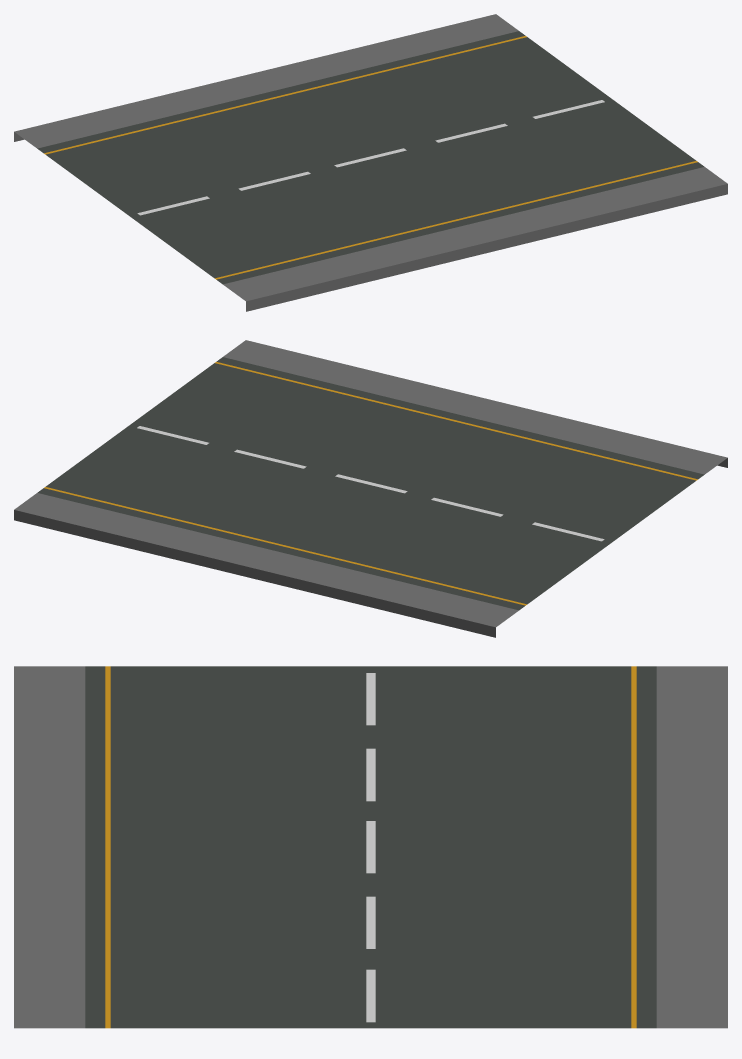
File: SM_Road_1.FBX
The picture shows the model from 3 angles, top to bottom: view 1: azimuth 30°, elevation 25°; view 2: azimuth 150°, elevation 25°; view 3: azimuth 270°, elevation 25°; orthographic projection. The views are drawn at different scales.
Visible parts, largest first — view 1: SM_Road_1; view 2: SM_Road_1; view 3: SM_Road_1.
Part boxes in pixels (bbox=[...]): SM_Road_1: bbox=[14, 14, 727, 311]; SM_Road_1: bbox=[14, 340, 727, 637]; SM_Road_1: bbox=[14, 666, 727, 1028].
Size of what is drawn, in the model's own units: 1200 by 1000 by 25.
